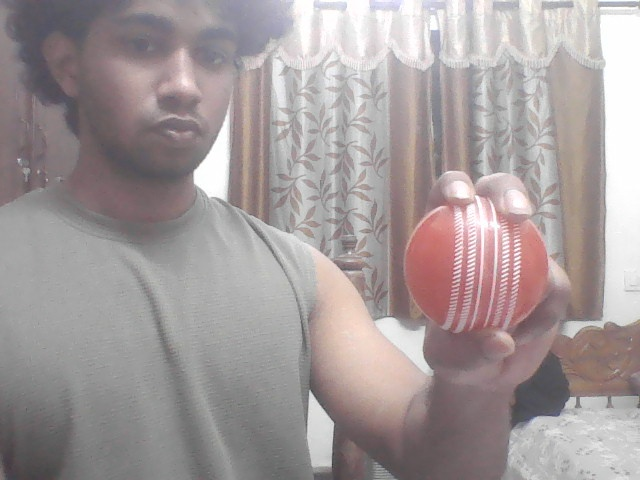cricket_ball: (399, 191, 554, 337)
